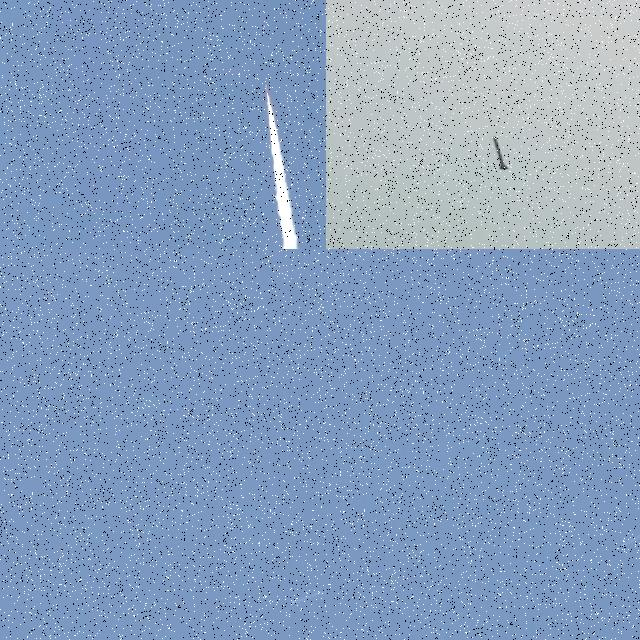Rocket: (492, 136, 512, 170), (265, 82, 271, 101), (621, 545, 624, 547), (292, 601, 294, 603)
